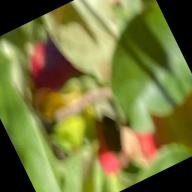Apples: (80, 91, 170, 178), (18, 30, 86, 97)
